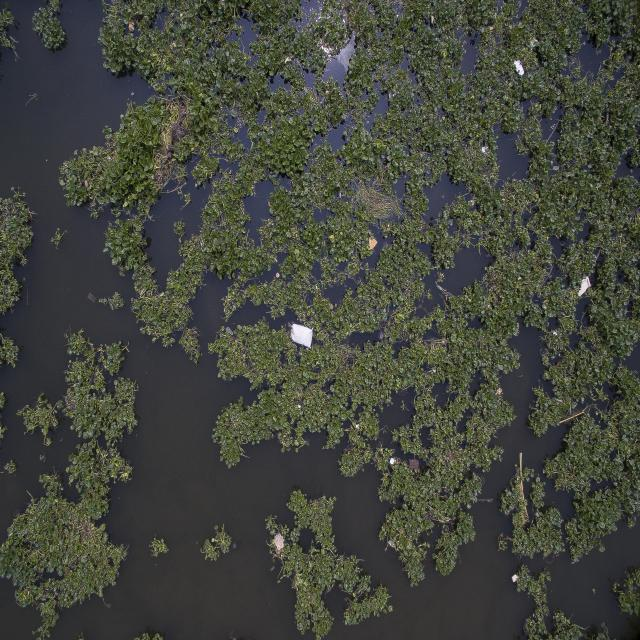debris: (556, 408, 589, 426), (576, 273, 592, 299), (363, 235, 380, 251), (514, 56, 525, 77), (273, 534, 285, 552), (408, 458, 420, 471), (510, 572, 521, 586), (481, 144, 492, 156), (284, 54, 293, 67), (354, 421, 363, 432), (274, 268, 281, 282), (468, 197, 476, 208), (82, 178, 90, 188), (388, 458, 396, 467), (551, 329, 559, 338), (296, 403, 302, 411), (431, 367, 437, 374)
plastic: (291, 323, 313, 348), (384, 537, 399, 552), (86, 291, 98, 303), (224, 324, 236, 336), (376, 332, 386, 342), (128, 90, 136, 98), (232, 542, 238, 551), (44, 156, 49, 164)
